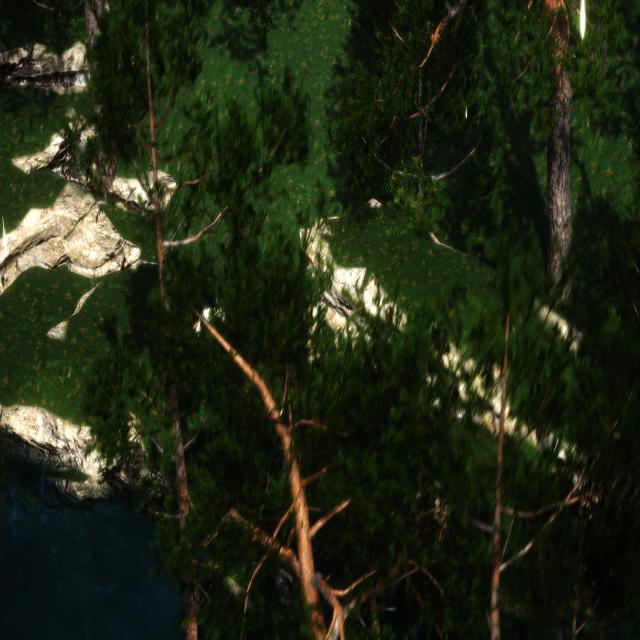Human: (194, 262, 238, 340)
